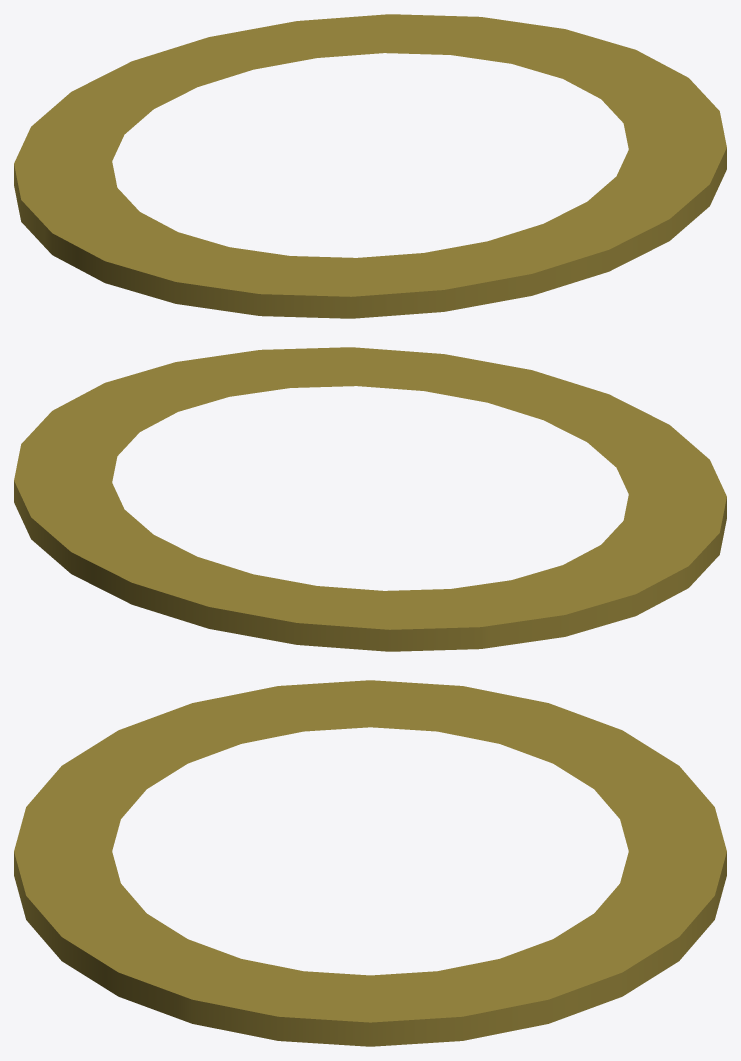
Rendered from original-21.obj.
3 renders of one model, top to bottom at view 1: azimuth 30°, elevation 25°; view 2: azimuth 150°, elevation 25°; view 3: azimuth 270°, elevation 25°, orthographic. The views are drawn at different scales.
Parts seen in each view (by area): view 1: #ID461; view 2: #ID461; view 3: #ID461.
Boxes of the visible parts, box(x1,y1,x2,y2) form: #ID461: box(14, 14, 726, 318); #ID461: box(14, 347, 726, 651); #ID461: box(14, 680, 726, 1046).
Size of the model in its own units: 0.1551 by 0.00511 by 0.1365.
